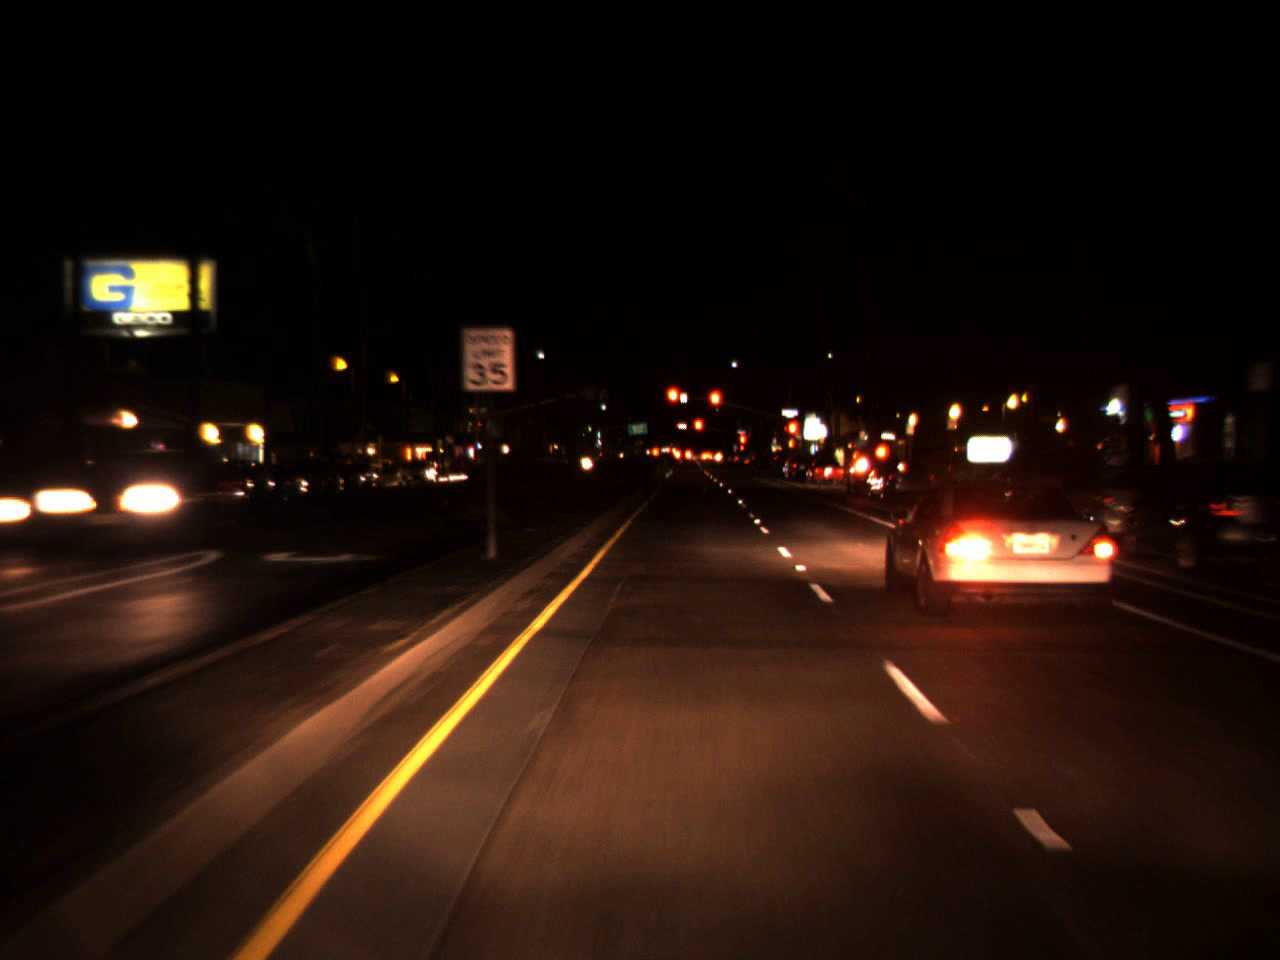stop: (780, 415, 804, 463), (663, 384, 682, 421), (706, 387, 724, 424), (691, 416, 703, 445), (739, 434, 745, 444)
